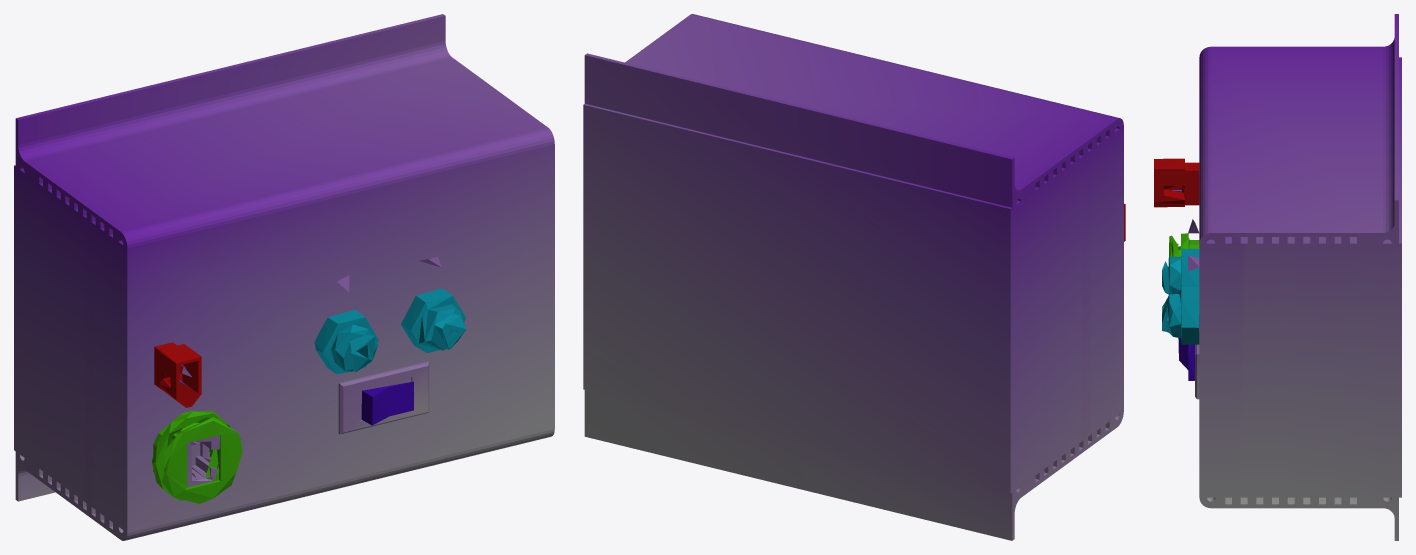
Rendered from module_dec.dae.
3 renders of one model, left to right at view 1: azimuth 30°, elevation 25°; view 2: azimuth 150°, elevation 25°; view 3: azimuth 270°, elevation 25°, orthographic. The views are drawn at different scales.
Visible parts, largest first — view 1: node; view 2: node; view 3: node.
Part boxes in pixels (left/top/right/bottom): node: left=14, top=14, right=554, bottom=540; node: left=583, top=14, right=1125, bottom=540; node: left=1154, top=14, right=1401, bottom=540.
Bounding box in the file's own units: 0.1524 × 0.13 × 0.0857.
